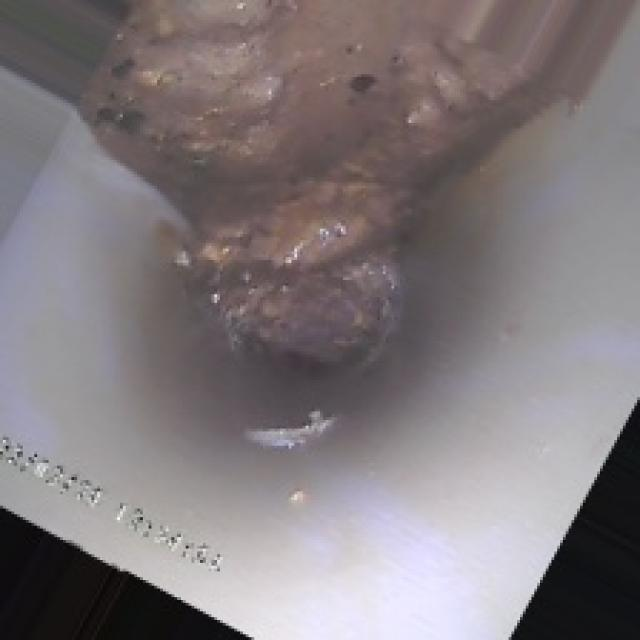sluge accumulation: (111, 0, 606, 349)
